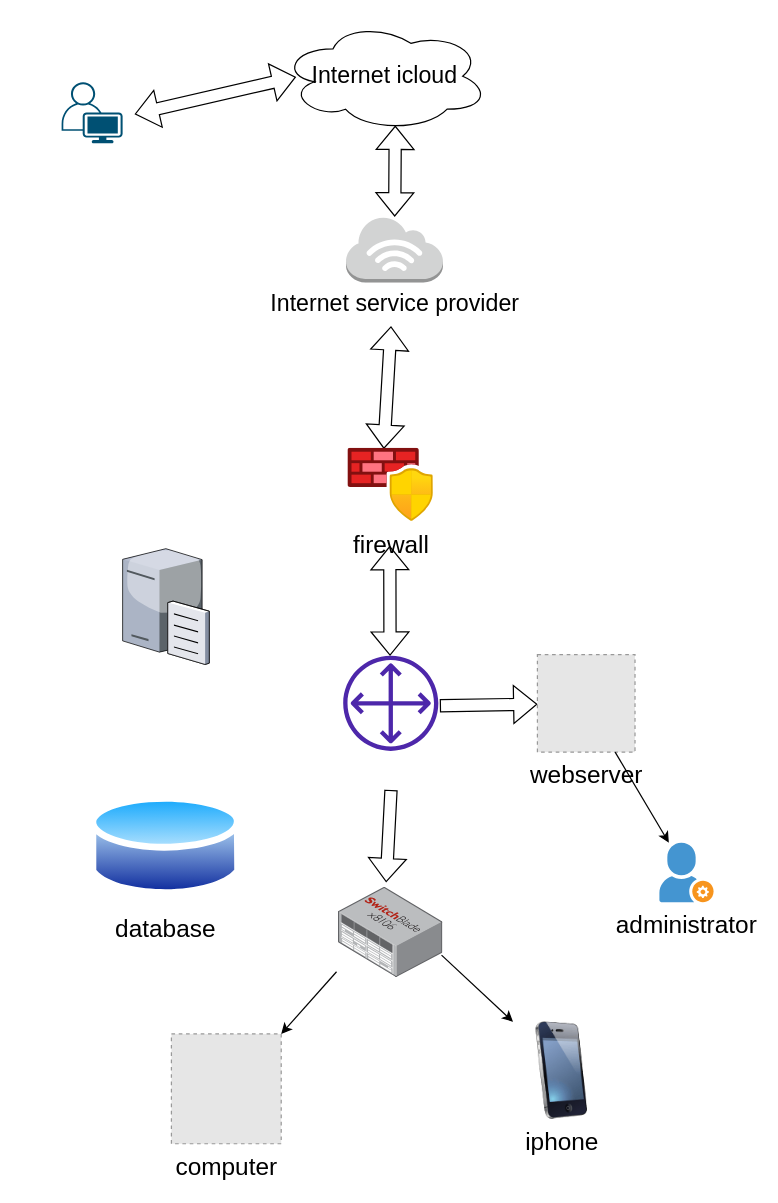
This 778x1203 diagram has some shape labels left out. Grey dashed boxes stand in for pictures. The centre of each missing label's shape, as x and y in pixels:
"external user" belongs at point (91, 112).
"file server" belongs at point (165, 604).
"router" belongs at point (390, 702).
"switch" belongs at point (390, 932).
